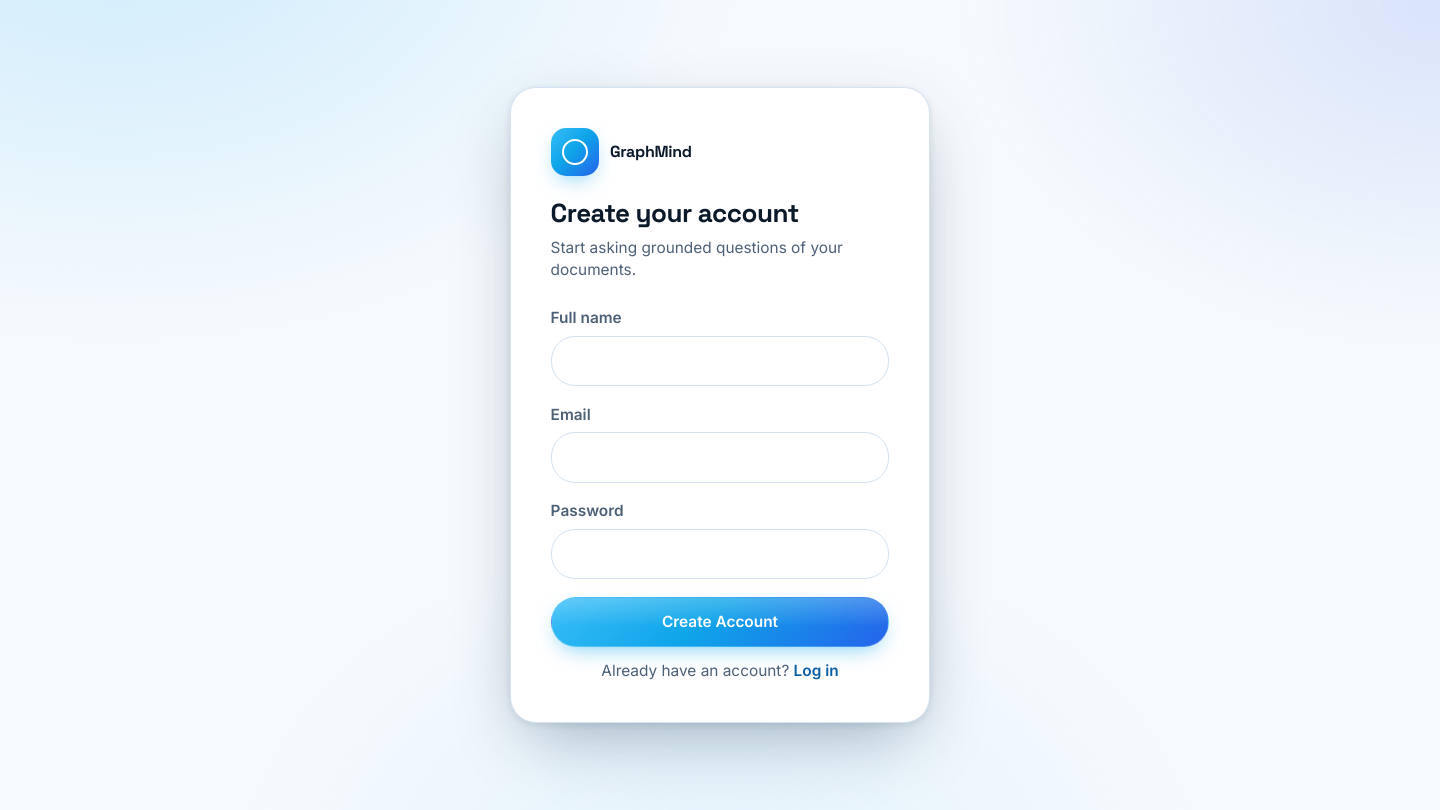
it: RegisterPage (Story 1.6: check-your-inbox state) › shows a check-your-inbox panel naming the address after a successful registration
In the field labelled "Full name": (720, 361) [551,336,889,386], type "Maria Ivanova"
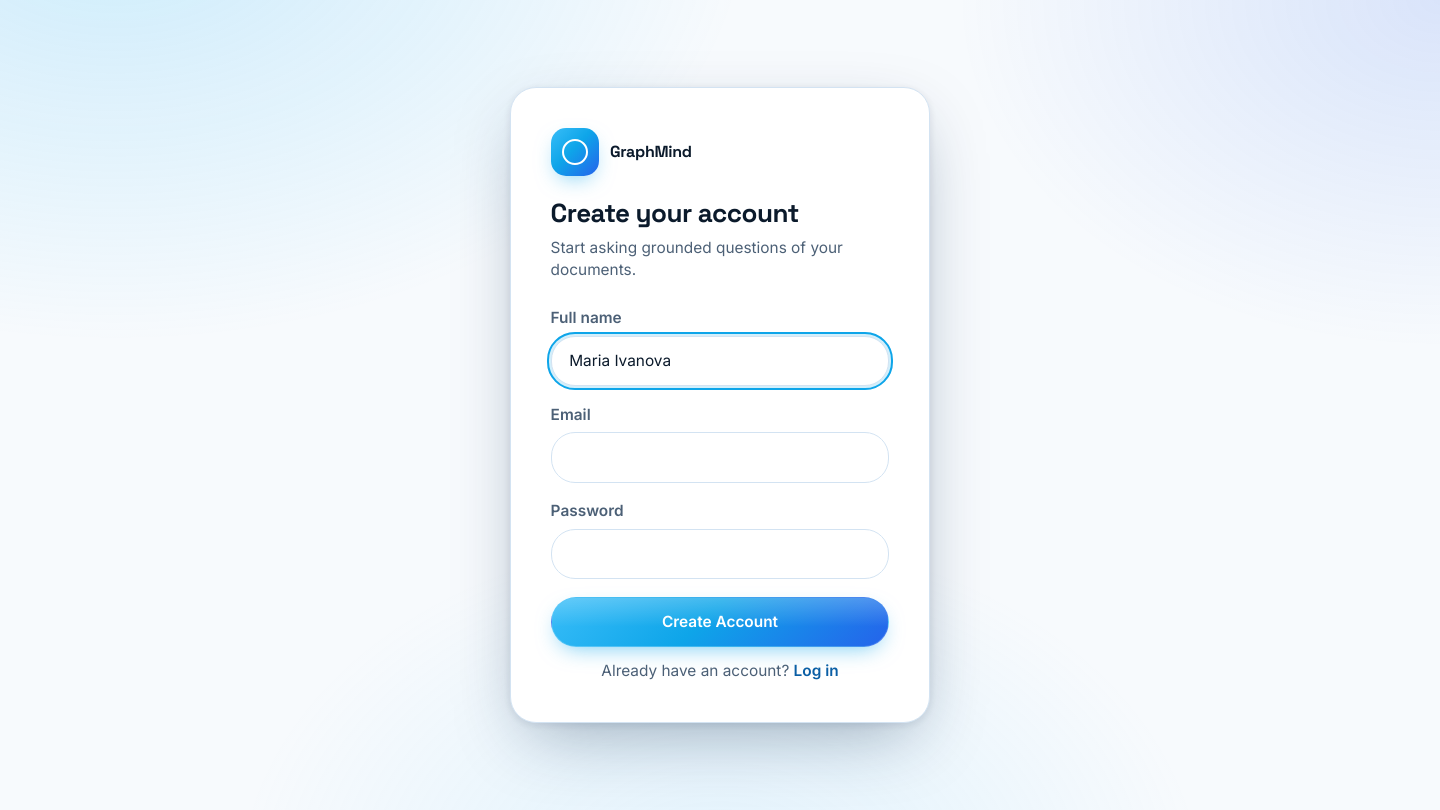
In the field labelled "Email": (720, 458) [551,432,889,483], type "maria@example.com"
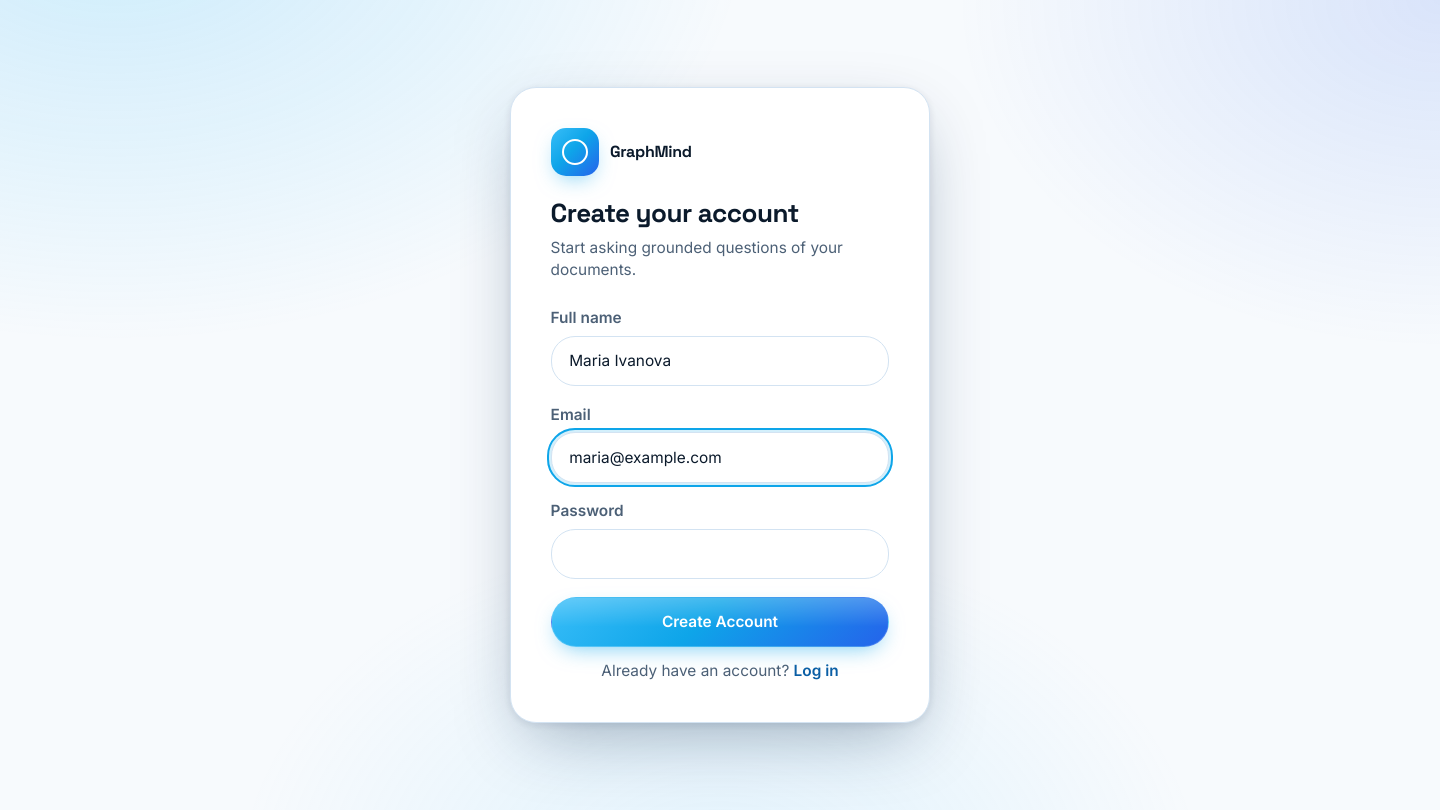
In the password field labelled "Password": (720, 554) [551,529,889,579], type "correct horse battery staple"
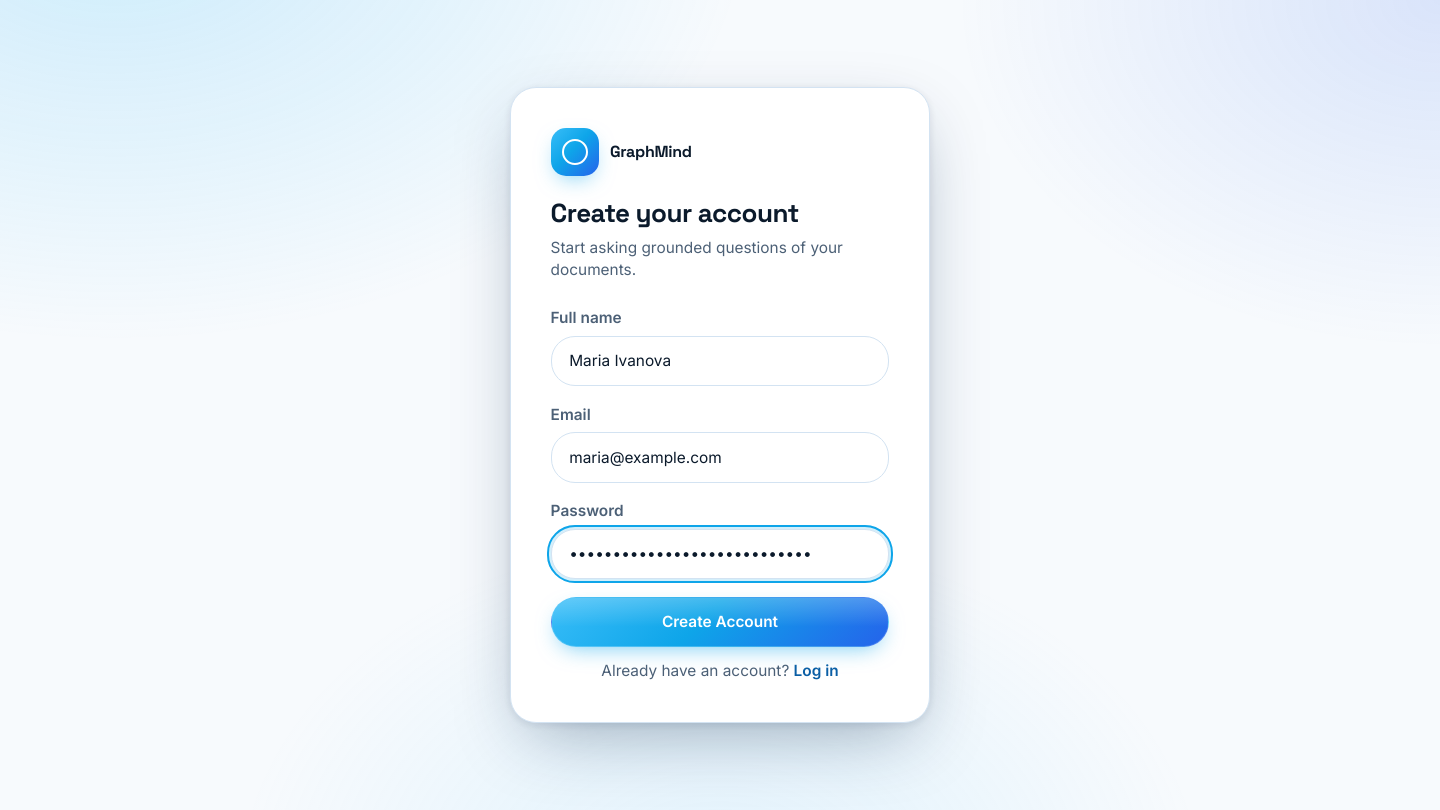
Click the button "Create Account": (720, 622) [551,597,889,647]
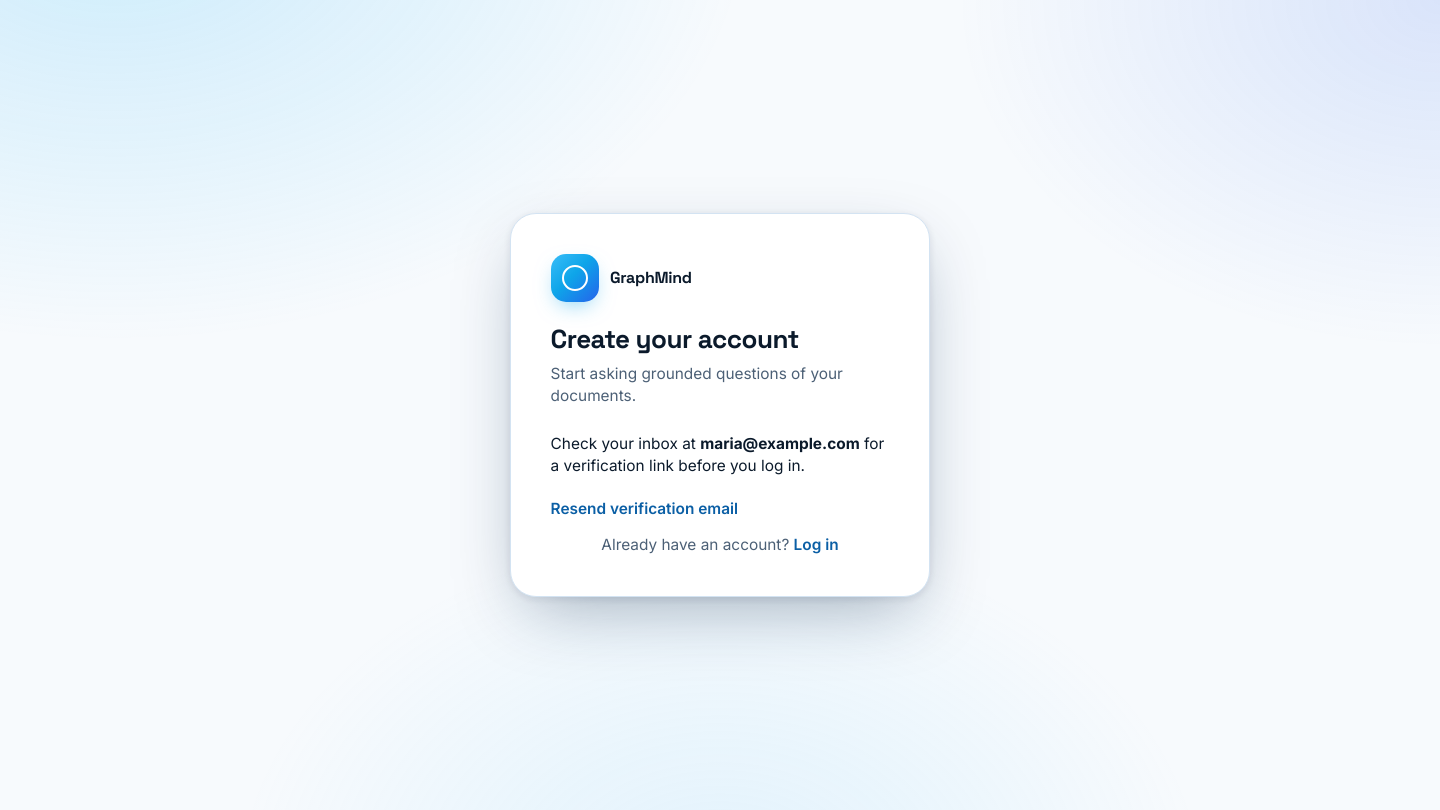
Expected: the text "Check your inbox" is shown, [551,434,696,453]
Expected: the text "maria@example.com" is shown, [700,434,860,453]
